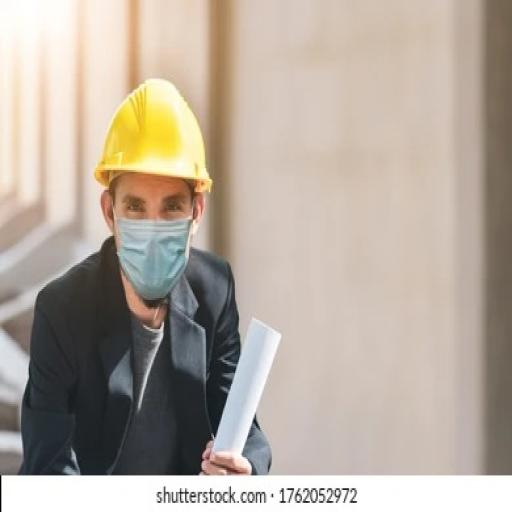mask: (112, 214, 200, 305)
